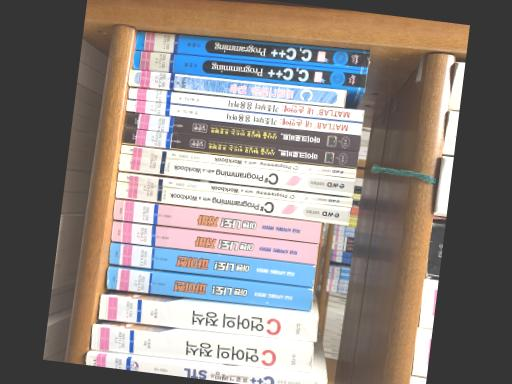book-spine: (90, 325, 312, 372), (99, 295, 318, 342), (115, 181, 349, 224), (117, 154, 354, 196), (122, 127, 357, 168), (134, 30, 370, 70), (132, 49, 366, 89), (108, 243, 314, 288), (123, 112, 360, 151), (111, 220, 317, 264), (112, 200, 321, 243), (107, 267, 312, 310), (127, 69, 345, 107), (125, 99, 361, 134), (116, 172, 352, 207), (128, 87, 363, 121), (120, 145, 356, 178), (85, 355, 325, 384)
